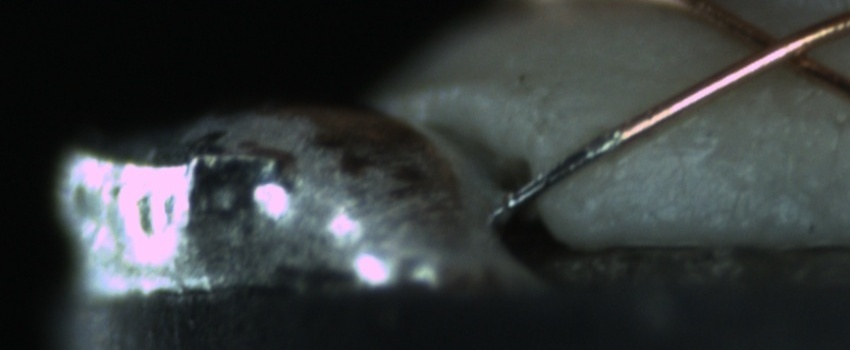CL: (728, 14, 834, 81)
TS: (508, 132, 622, 208)
